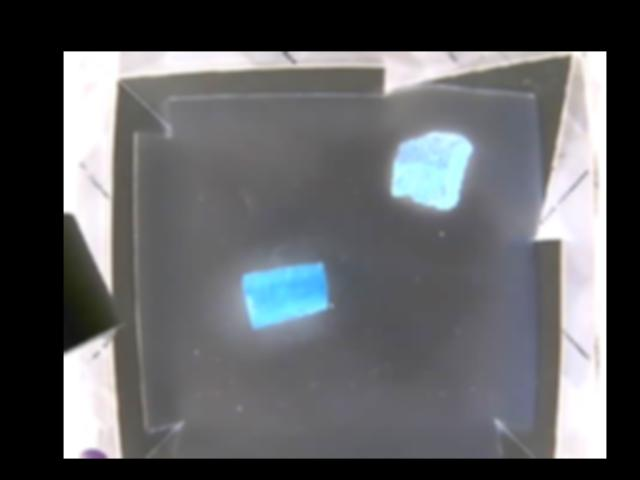Brisk: (391, 130, 473, 210)
Carrot: (243, 261, 329, 327)
